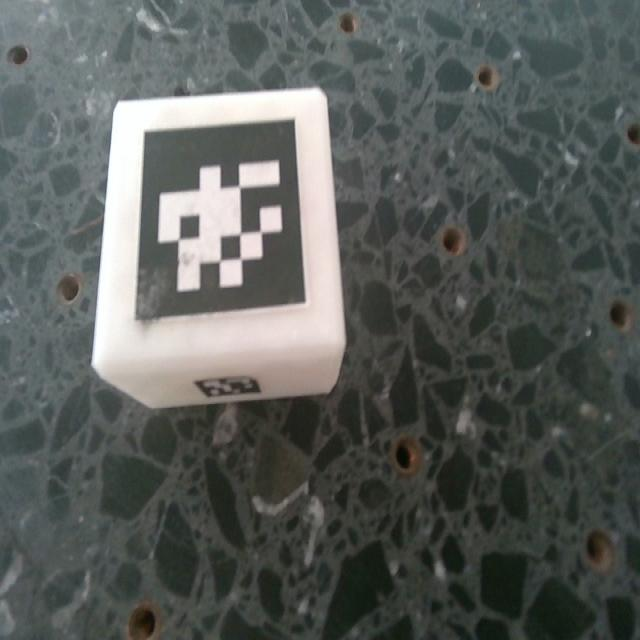Cube: (90, 88, 348, 412)
